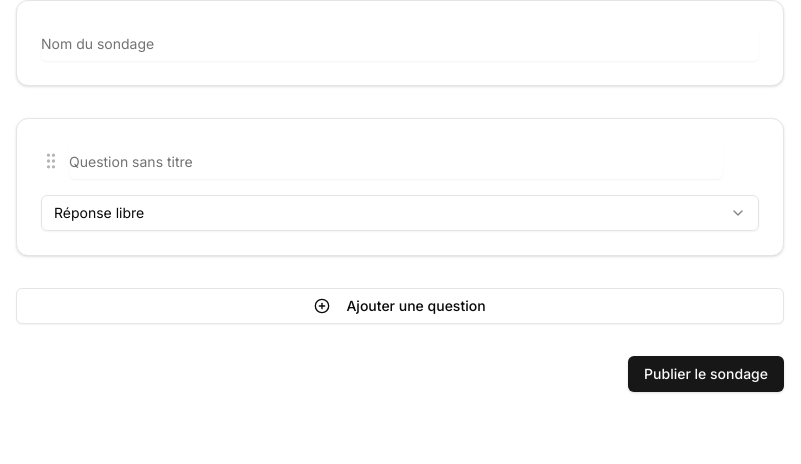
Scenario: SurveyForm › affiche une erreur si le titre est vide lors de la soumission
Click the button "Publier le sondage" at (706, 374), box [628,356,784,392]
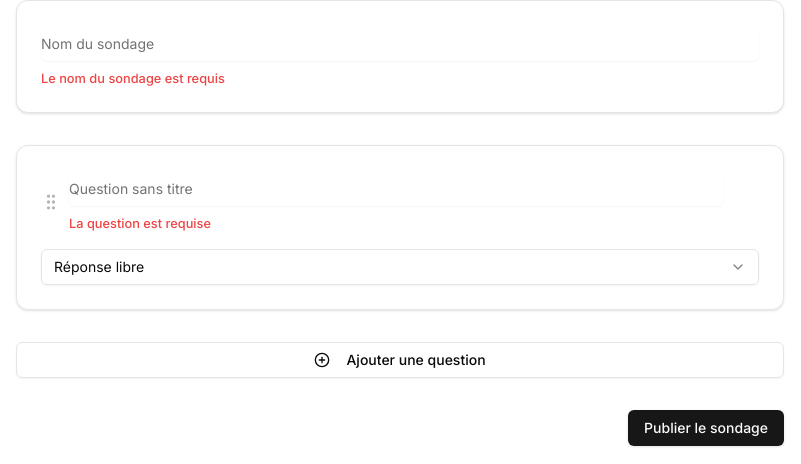
Check: the text "Le nom du sondage est requis" is shown, box [41,71,225,86]
